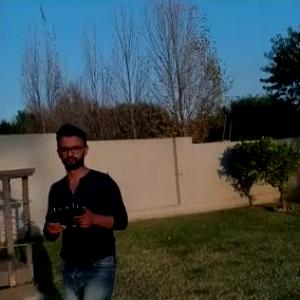follow: (44, 119, 140, 299)
